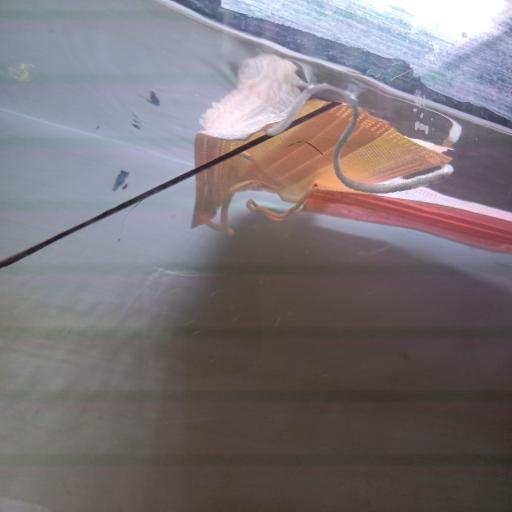mask: (189, 78, 454, 237), (246, 178, 512, 266)
